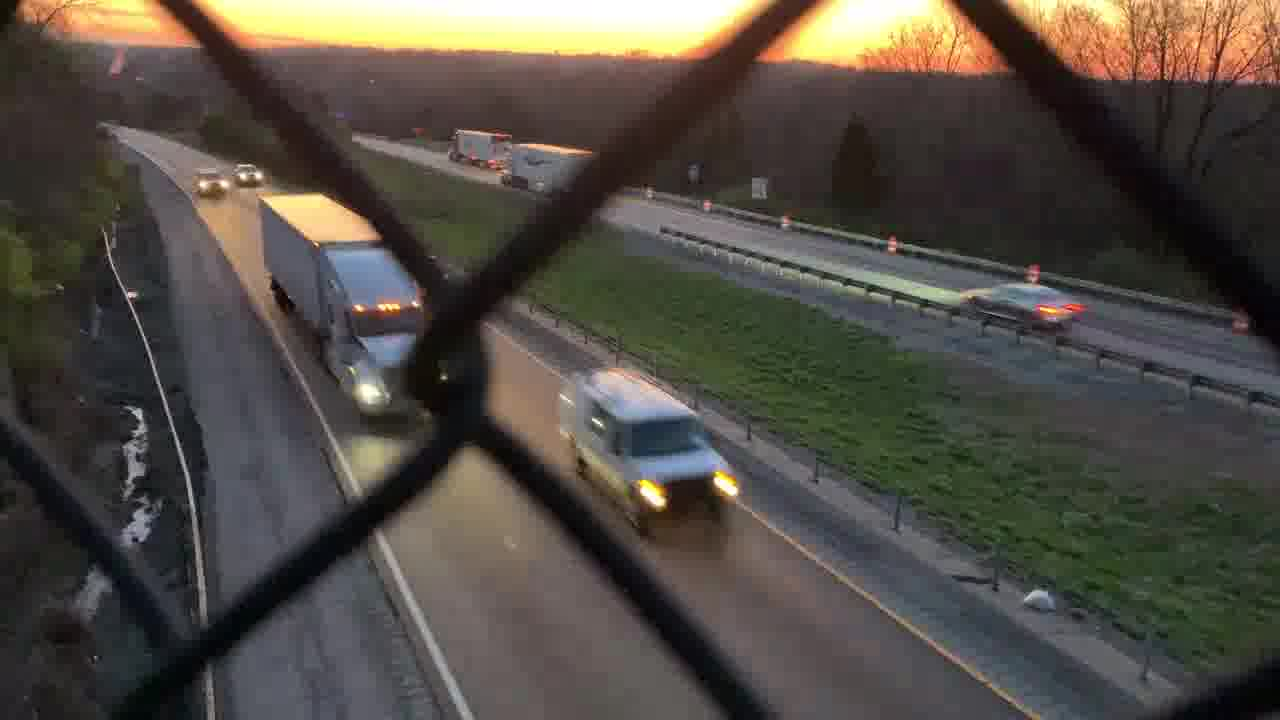heavyTruck: (259, 193, 436, 422), (506, 143, 589, 192), (442, 128, 511, 165)
lightTruck: (556, 363, 742, 532)
smallCar: (959, 280, 1089, 330)
